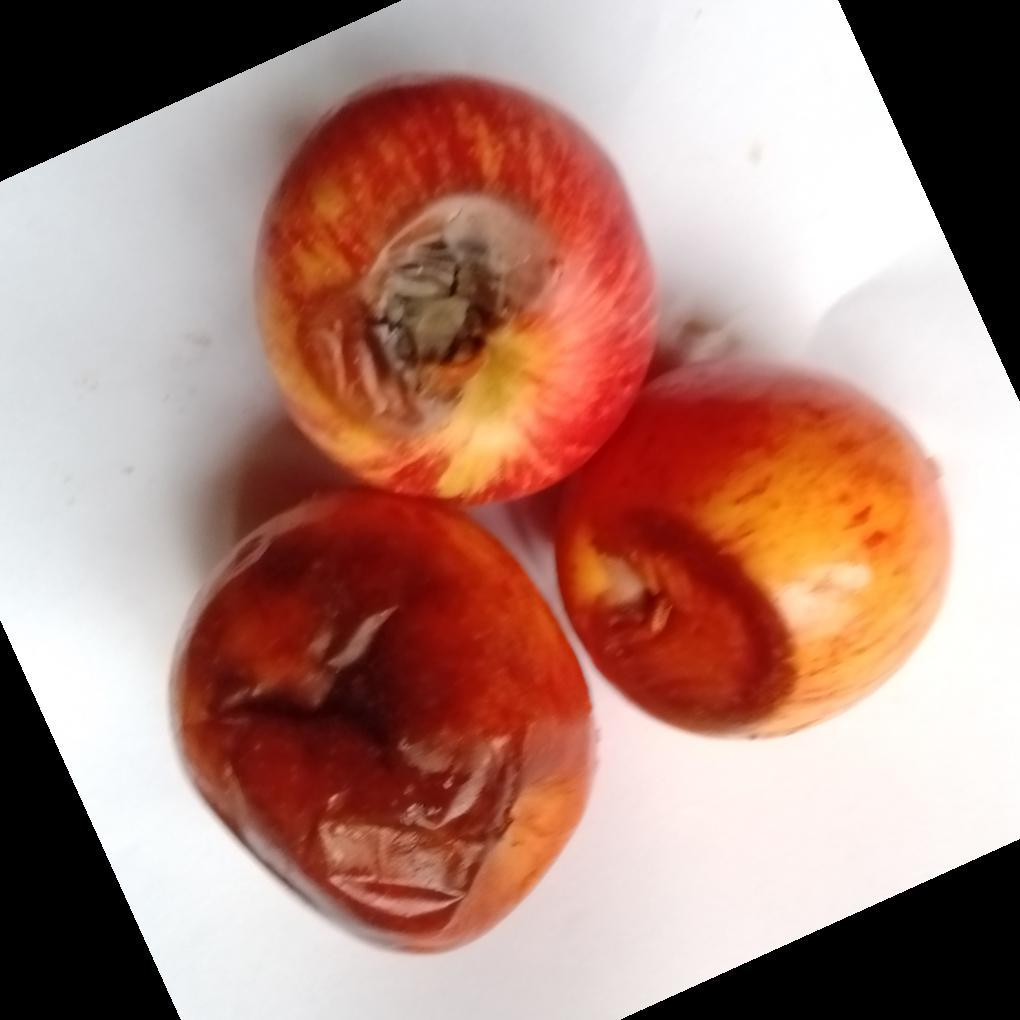FreshOrange: (167, 72, 955, 961)
